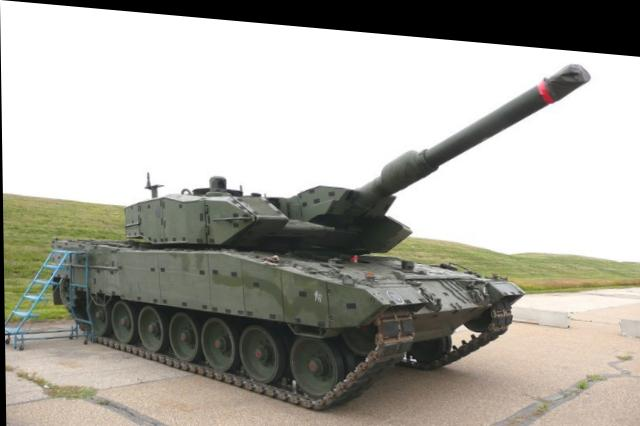tank: (51, 161, 509, 413)
